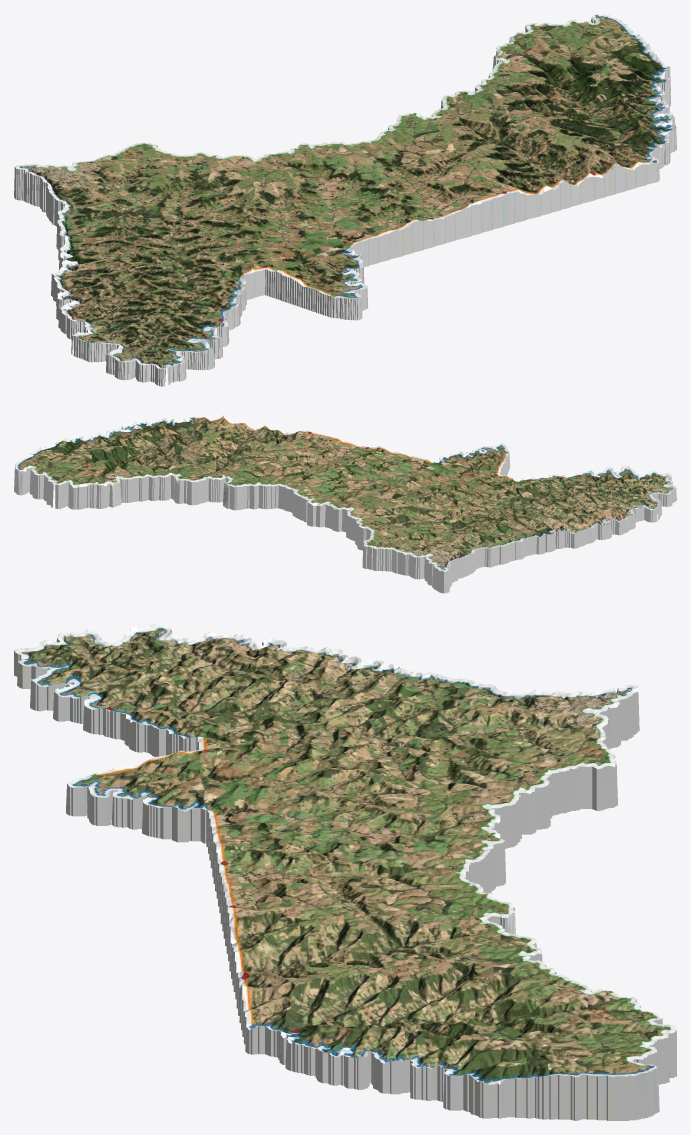
3 renders of one model, top to bottom at view 1: azimuth 30°, elevation 25°; view 2: azimuth 150°, elevation 25°; view 3: azimuth 270°, elevation 25°, orthographic. The views are drawn at different scales.
Bounding box in the file's own units: 1 × 0.0453 × 0.5928.
Materials: 1 (1 with a texture image).
